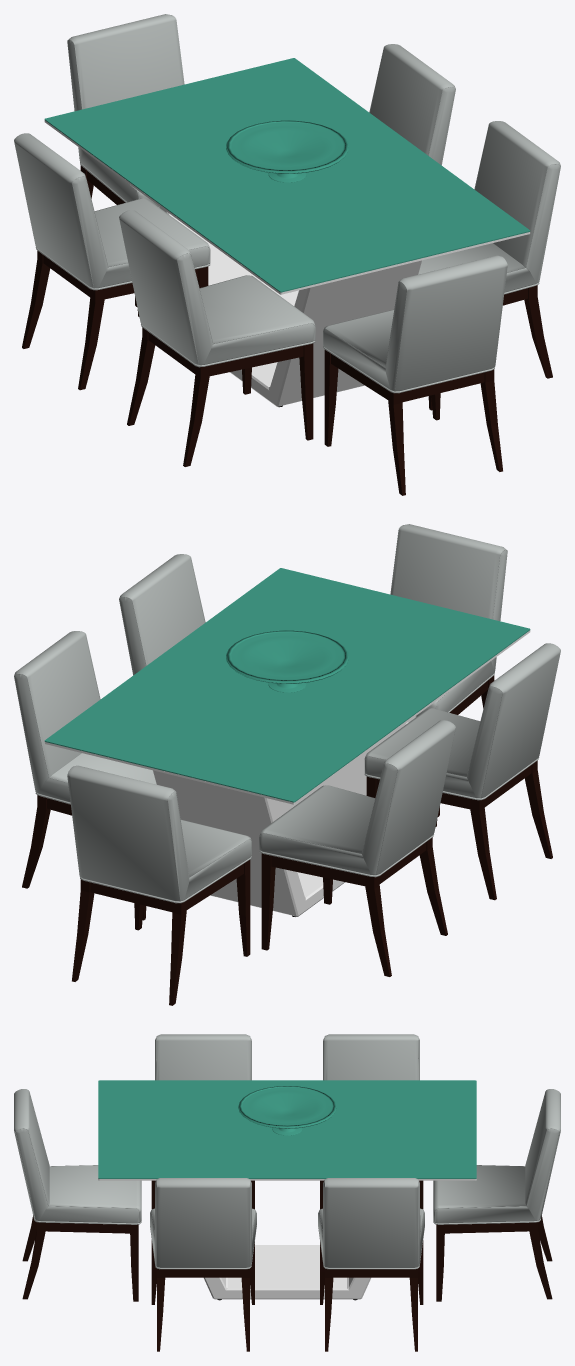
File: TableSet.glb
The picture shows the model from 3 angles, top to bottom: view 1: azimuth 30°, elevation 25°; view 2: azimuth 150°, elevation 25°; view 3: azimuth 270°, elevation 25°; orthographic projection. The views are drawn at different scales.
Visible parts, largest first — view 1: Seat (×6), TopGlass, Legs (×4), Base, TableDecoration, TableTop; view 2: Seat (×6), TopGlass, Legs (×4), Base, TableDecoration, TableTop; view 3: Seat (×6), TopGlass, Legs (×4), Base, TableDecoration.
Boxes of the visible parts, bbox=[...] form: Seat (×6): bbox=[14, 14, 560, 393]; TopGlass: bbox=[44, 58, 530, 292]; Legs (×4): bbox=[22, 251, 552, 495]; Base: bbox=[159, 206, 421, 406]; TableDecoration: bbox=[226, 120, 348, 182]; TableTop: bbox=[44, 120, 530, 294]; Seat (×6): bbox=[14, 524, 560, 903]; TopGlass: bbox=[44, 568, 530, 802]; Legs (×4): bbox=[22, 761, 552, 1005]; Base: bbox=[153, 716, 415, 916]; TableDecoration: bbox=[226, 630, 348, 692]; TableTop: bbox=[44, 630, 530, 804]; Seat (×6): bbox=[14, 1034, 560, 1269]; TopGlass: bbox=[98, 1080, 476, 1178]; Legs (×4): bbox=[22, 1215, 552, 1351]; Base: bbox=[204, 1245, 370, 1299]; TableDecoration: bbox=[238, 1086, 336, 1135].
Bounding box in the file's own units: 1.7 × 0.9103 × 2.6.
